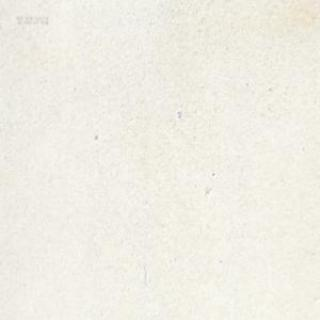Washertrack_idkeyframe: (176, 110, 180, 118)
